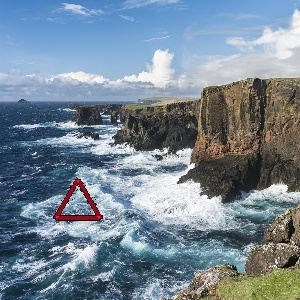triangle: (50, 175, 106, 224)
